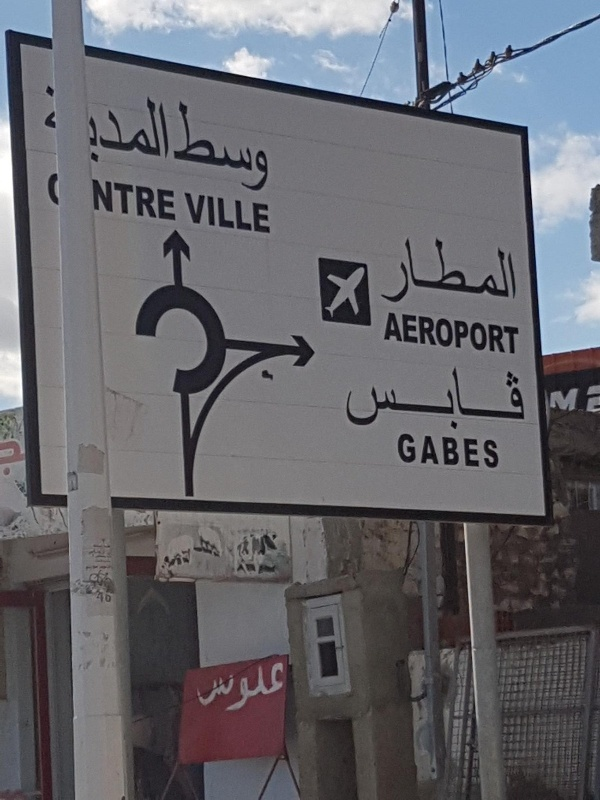text: (177, 100, 192, 197), (193, 100, 208, 197), (209, 100, 224, 197), (225, 100, 240, 197), (241, 100, 256, 197), (257, 100, 269, 197), (97, 89, 112, 163), (113, 89, 128, 163), (129, 89, 144, 163), (145, 89, 160, 163), (353, 363, 368, 434), (369, 363, 384, 434), (385, 363, 400, 434), (401, 363, 416, 434), (417, 363, 432, 434), (433, 363, 448, 434), (449, 363, 464, 434), (465, 363, 480, 434), (481, 363, 496, 434), (497, 363, 512, 434), (513, 363, 528, 434), (385, 233, 400, 303), (401, 233, 416, 303), (417, 233, 432, 303), (433, 233, 448, 303), (449, 233, 464, 303), (465, 233, 480, 303), (481, 233, 496, 303), (497, 233, 512, 303), (161, 89, 172, 163), (209, 662, 224, 714), (225, 662, 240, 714), (241, 662, 256, 714), (257, 662, 272, 714), (87, 89, 96, 163), (161, 180, 177, 221), (401, 312, 416, 355), (417, 312, 432, 355), (433, 312, 448, 355), (449, 312, 464, 355), (465, 312, 480, 355), (481, 312, 496, 355), (497, 312, 512, 355), (1, 435, 16, 478), (193, 192, 208, 234), (209, 192, 224, 234), (225, 192, 240, 234), (241, 192, 256, 234), (273, 662, 285, 714), (97, 180, 112, 221), (113, 180, 128, 221), (129, 180, 144, 221), (145, 180, 160, 221), (257, 192, 271, 234), (197, 662, 208, 714), (401, 432, 416, 469), (417, 432, 432, 469), (433, 432, 448, 469), (449, 432, 464, 469), (465, 432, 480, 469), (481, 432, 496, 469), (561, 382, 576, 418), (577, 382, 592, 418), (388, 312, 400, 355), (17, 435, 29, 478), (548, 382, 560, 418), (513, 233, 519, 303), (49, 172, 61, 206), (513, 312, 521, 355), (49, 85, 56, 130), (185, 192, 192, 234), (593, 382, 600, 418), (97, 591, 113, 603), (395, 432, 400, 469), (350, 363, 352, 434), (382, 233, 384, 303), (45, 85, 48, 130), (93, 180, 96, 221), (497, 432, 500, 469)
